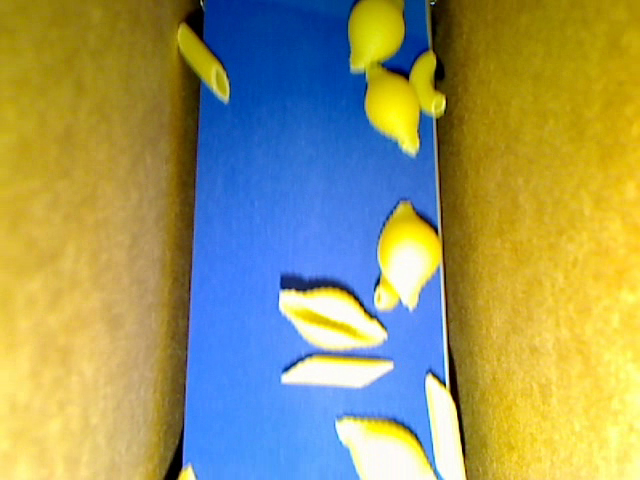elbow: (407, 48, 446, 118)
penne: (422, 370, 468, 479), (176, 22, 230, 102), (279, 353, 393, 388)
shell: (377, 200, 442, 311), (277, 286, 387, 351), (334, 416, 436, 479), (366, 60, 420, 157), (349, 1, 405, 73)
